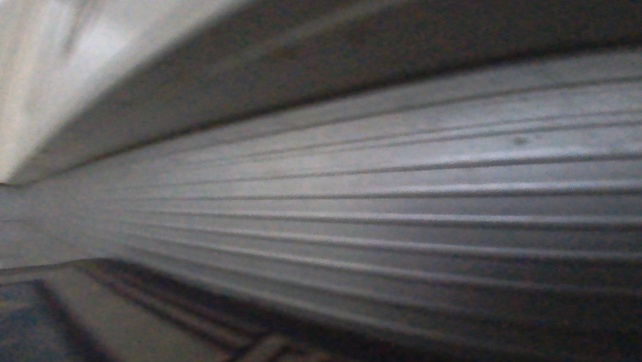blanket: (0, 250, 428, 361)
